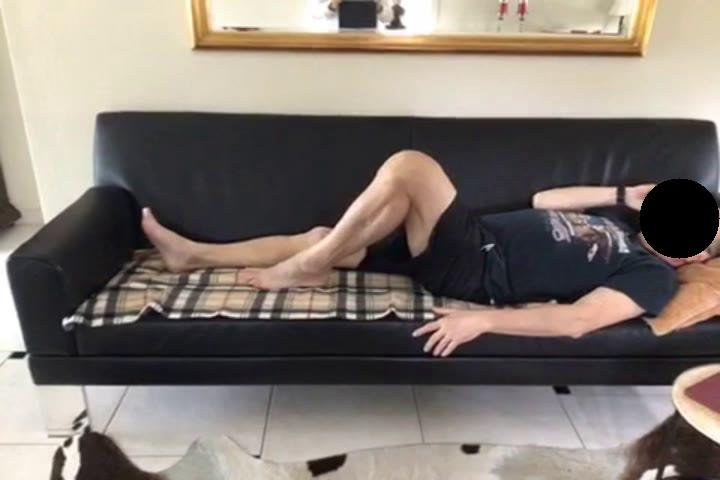lower_body: (142, 150, 509, 307)
